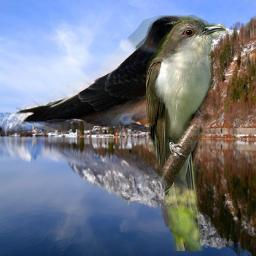Cuckoo: (146, 11, 226, 251)
Swallow: (13, 15, 213, 133)
